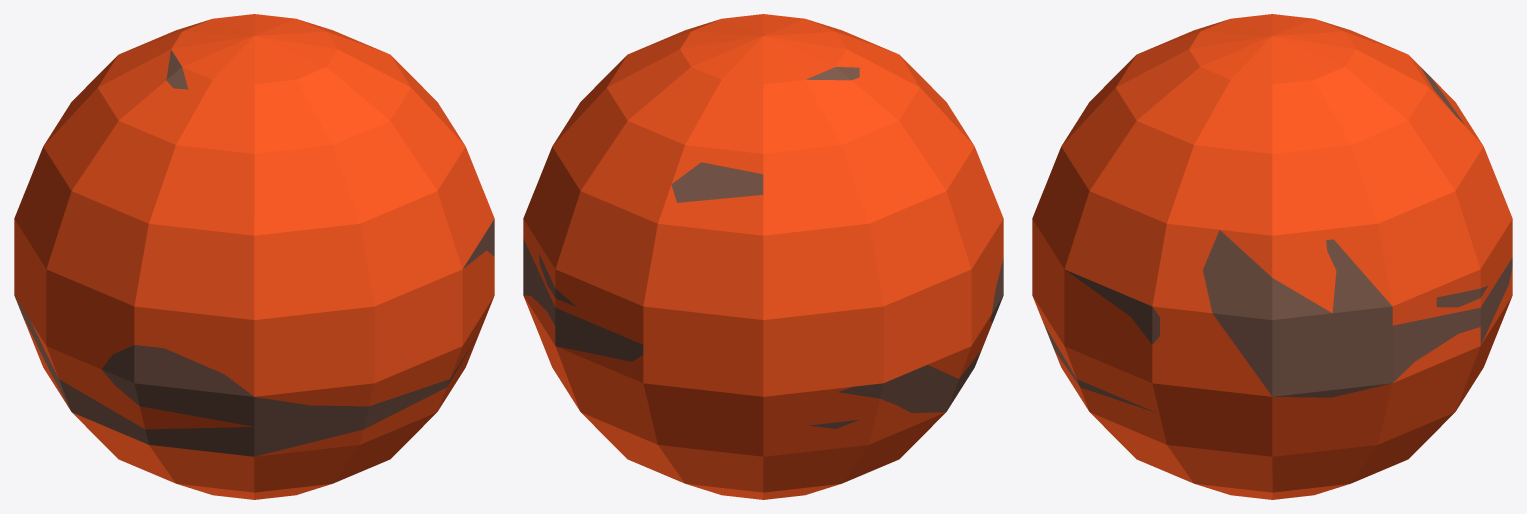
File: Mars.glb
3 renders of one model, left to right at view 1: azimuth 30°, elevation 25°; view 2: azimuth 150°, elevation 25°; view 3: azimuth 270°, elevation 25°, orthographic.
Visible parts, largest first — view 1: group646701568; view 2: group646701568; view 3: group646701568.
Part boxes in pixels (x1,y1,x2,y2): group646701568: [14, 14, 494, 499]; group646701568: [523, 14, 1003, 499]; group646701568: [1032, 14, 1512, 499].
Bounding box in the file's own units: 1.37 × 1.39 × 1.37.
